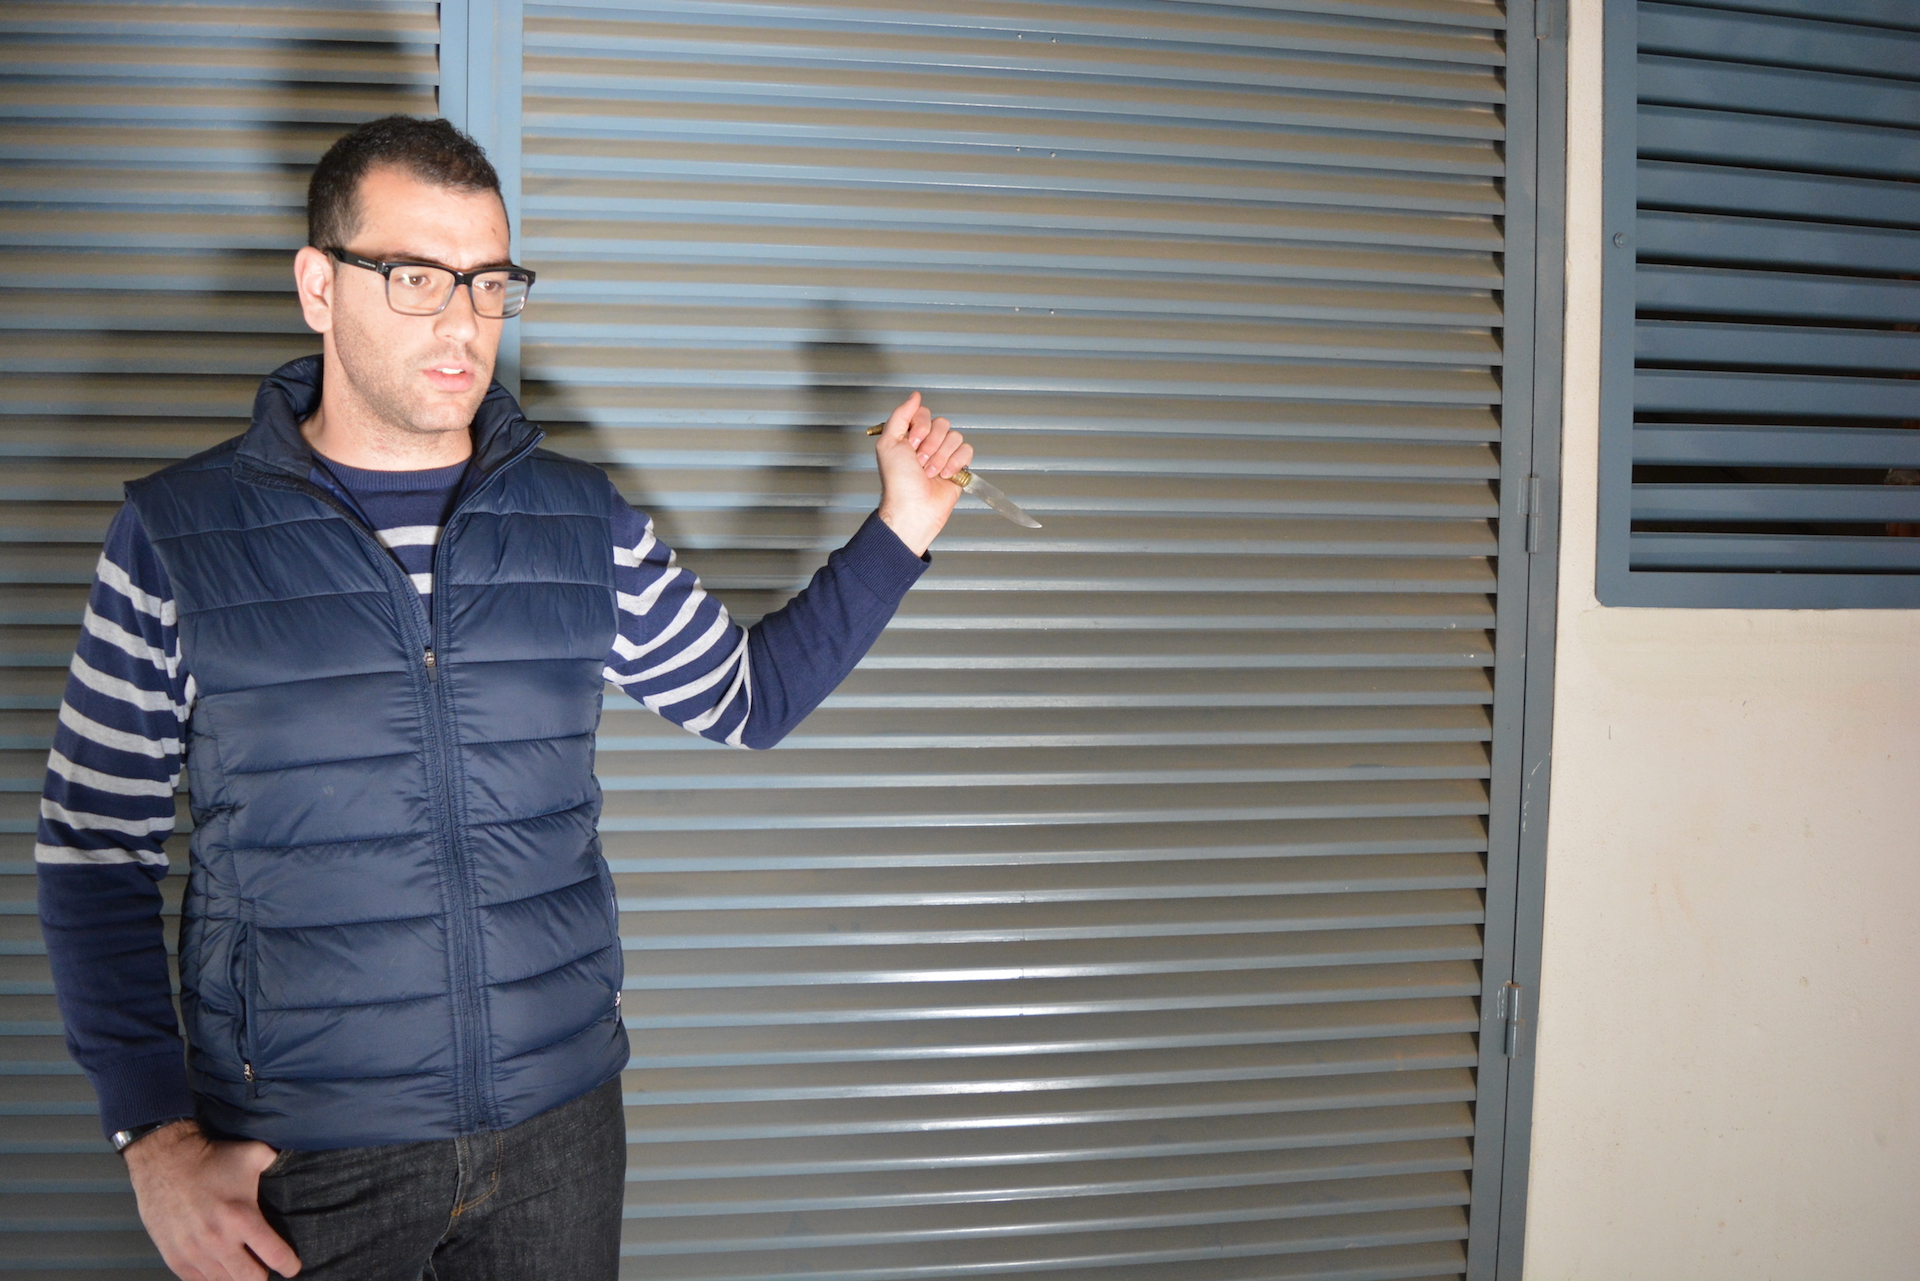knife: (861, 417, 1051, 538)
